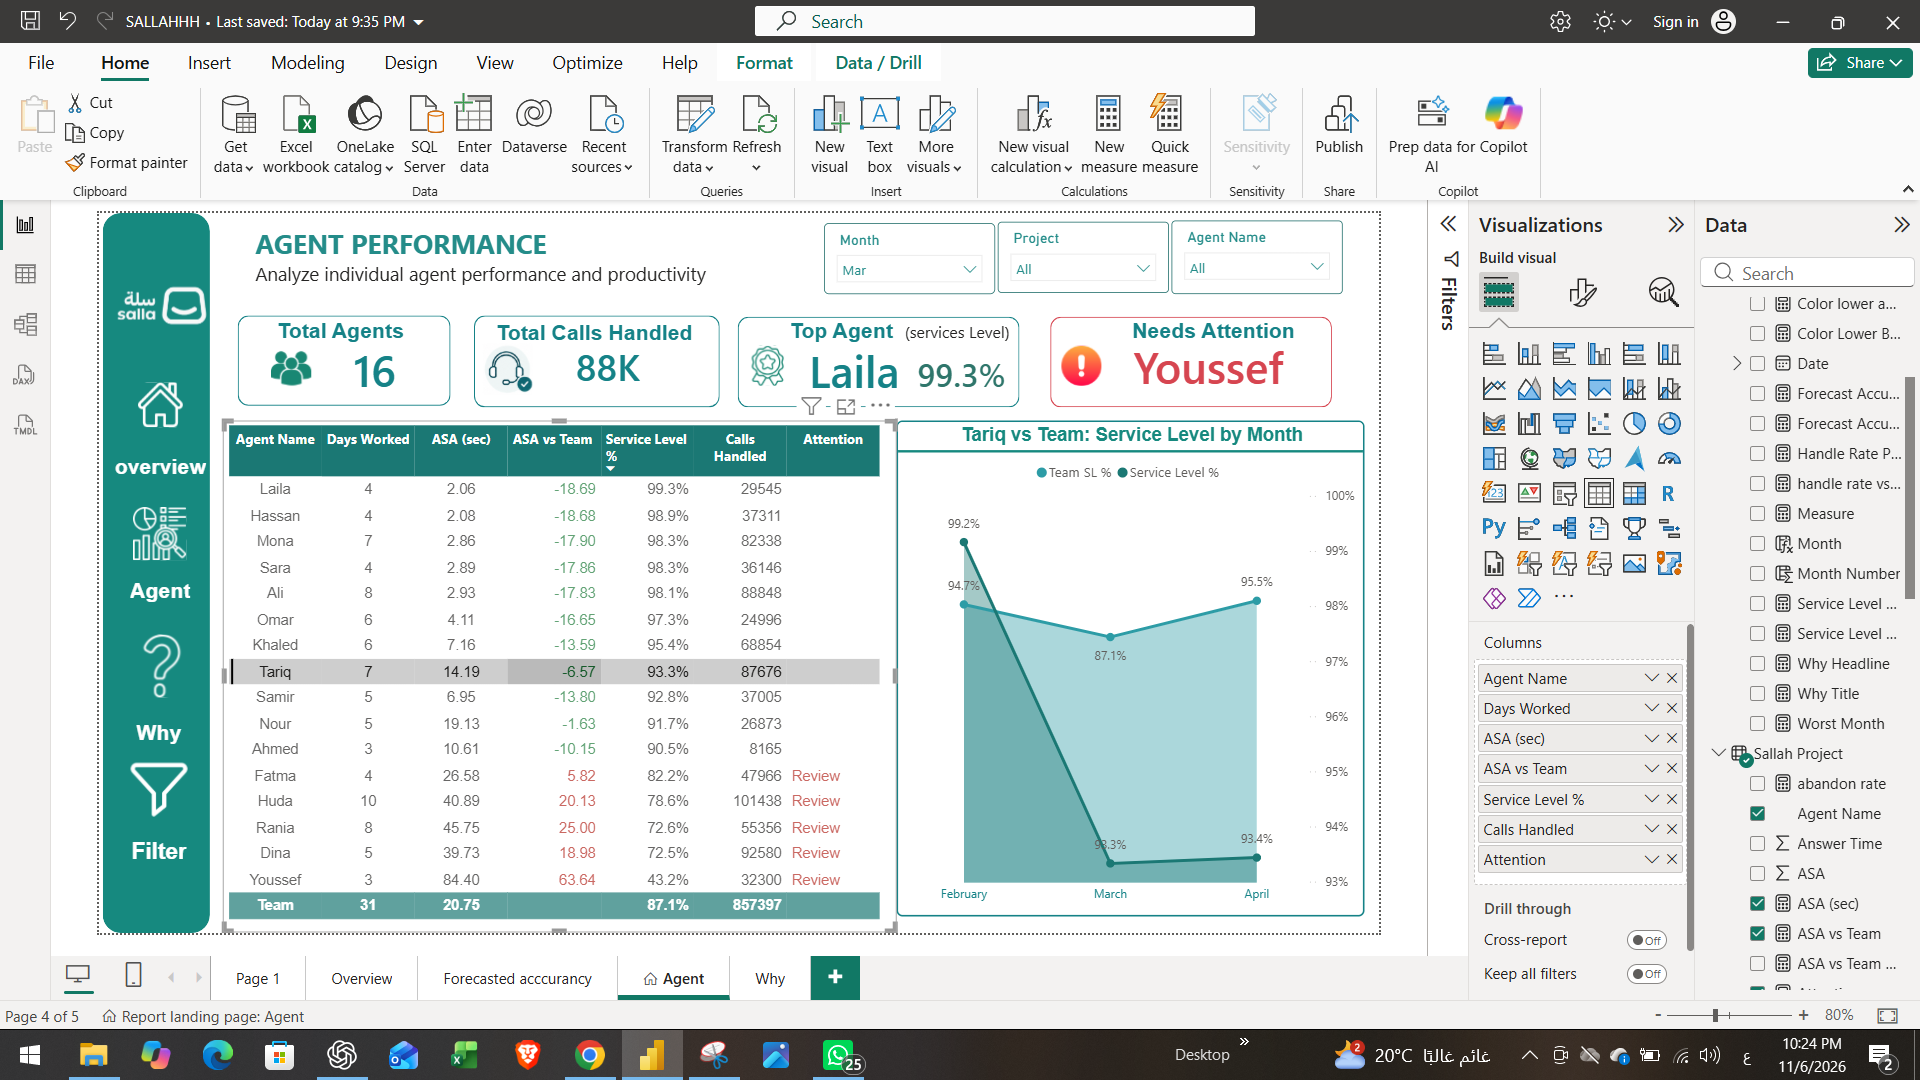

The page's visual inventory and layout, read from the dashboard file:
{"tool":"powerbi","page":{"name":"Agent","canvas":[1280,720],"ordinal":3},"visuals":[{"type":"textbox","box":[111,7.5,628.9,75.1],"z":0,"group":"g2"},{"type":"shape","box":[139.1,101.7,212.8,90.2],"z":0,"group":"g1"},{"type":"shape","box":[48.6,0,1231.4,77.1],"z":1000},{"type":"slicer","fields":{"Values":["Sallah Project.Month.Name"]},"box":[724.3,10,171.4,71.4],"z":1000,"group":"g2"},{"type":"shape","box":[374.7,101.7,245.8,91.9],"z":1000,"group":"g1"},{"type":"shape","box":[4.3,0,107.1,720],"z":2000},{"type":"slicer","fields":{"Values":["Sallah Project.Project"]},"box":[898.5,8.9,171.1,71],"z":2000,"group":"g2"},{"type":"actionButton","box":[140.8,130.6,105,48.3],"z":2000,"group":"g1"},{"type":"slicer","fields":{"Values":["Sallah Project.Agent Name"]},"box":[1072.4,7.1,171.1,73.7],"z":3000,"group":"g2"},{"type":"cardVisual","fields":{"Data":["Sum(Sallah Project.Calls Handled)"]},"box":[415.7,106.7,188.7,89.4],"z":3000,"group":"g1"},{"type":"group","id":"g1","title":"Group 1","box":[139.1,98.3,1127.6,105.9],"z":4000},{"type":"actionButton","box":[348.7,125.3,120.4,59.6],"z":4000,"group":"g1"},{"type":"textbox","box":[377.2,101.7,238.3,39.7],"z":5000,"group":"g1"},{"type":"textbox","box":[144.7,100.9,195.7,42.6],"z":6000,"group":"g1"},{"type":"shape","box":[639.2,103.4,281.8,90.6],"z":7000,"group":"g1"},{"type":"shape","box":[951.8,103.8,281.8,90.6],"z":8000},{"type":"textbox","box":[667.1,100.6,269,55.5],"z":9000,"group":"g1"},{"type":"group","id":"g2","title":"Group 2","box":[111,7.1,1132.5,75.6],"z":10000},{"type":"textbox","box":[979.7,101,269,55.5],"z":11000},{"type":"cardVisual","fields":{"Data":["Sallah Project.Top Agent"]},"box":[672,107.8,168.9,94.1],"z":11000,"group":"g1"},{"type":"actionButton","box":[0,0,139.1,66.8],"z":12000},{"type":"cardVisual","fields":{"Data":["Count(Sallah Project.Agent Name)"]},"box":[189.2,104.1,174.9,100.1],"z":12000,"group":"g1"},{"type":"cardVisual","fields":{"Data":["Sallah Project.Top Service Level"]},"box":[785.2,125.8,155.6,68.8],"z":13000,"group":"g1"},{"type":"actionButton","box":[34.8,146.1,52.9,91.8],"z":13000},{"type":"cardVisual","fields":{"Data":["Sallah Project.Needs Attention Agent"]},"box":[997.4,105.5,224.7,93.6],"z":14000},{"type":"actionButton","box":[627.1,128.1,85.1,48.2],"z":14000,"group":"g1"},{"type":"actionButton","box":[27.8,417.4,90.4,71],"z":15000},{"type":"actionButton","box":[22.3,537,96,75.1],"z":16000},{"type":"textbox","box":[947.8,100.3,132.7,44.6],"z":17000,"group":"g1"},{"type":"actionButton","box":[30.6,289.4,65.4,61.2],"z":18000},{"type":"actionButton","box":[939.6,128.5,85.1,48.2],"z":19000},{"type":"actionButton","box":[11.1,229.6,100.2,48.7],"z":20000},{"type":"actionButton","box":[11.1,353.4,100.2,48.7],"z":21000},{"type":"actionButton","box":[10,495.7,100,48.6],"z":22000},{"type":"actionButton","box":[0.3,22.3,132.7,92.9],"z":24000},{"type":"actionButton","box":[9.7,617.7,100.2,40.3],"z":25000},{"type":"tableEx","fields":{"Values":["Sallah Project.Agent Name","Sallah Project.Days Worked","Sallah Project.ASA (sec)","Sallah Project.ASA vs Team","Sallah Project.Service Level %","Sum(Sallah Project.Calls Handled)","Sallah Project.Attention"]},"box":[124.3,207.5,673.2,512.7],"z":26000},{"type":"areaChart","fields":{"Category":["Calendar.Date.Variation.Date Hierarchy.Month"],"Y":["Sallah Project.Team SL %"],"Y2":["Sallah Project.Service Level %"]},"box":[797.5,207.5,468.1,495.8],"z":27000}]}

Visuals, with their boxes on the page's 1280x720 design canvas (x1, y1, x2, y2). These are canvas units, not pixel positions in the 1920x1080 screenshot, which may show the page scaled, cropped or inside an application window:
textbox: [x1=111, y1=8, x2=740, y2=83]
shape: [x1=139, y1=102, x2=352, y2=192]
shape: [x1=49, y1=0, x2=1280, y2=77]
slicer - Sallah Project.Month.Name: [x1=724, y1=10, x2=896, y2=81]
shape: [x1=375, y1=102, x2=620, y2=194]
shape: [x1=4, y1=0, x2=111, y2=720]
slicer - Sallah Project.Project: [x1=898, y1=9, x2=1070, y2=80]
actionButton: [x1=141, y1=131, x2=246, y2=179]
slicer - Sallah Project.Agent Name: [x1=1072, y1=7, x2=1244, y2=81]
cardVisual - Sum(Sallah Project.Calls Handled): [x1=416, y1=107, x2=604, y2=196]
"Group 1" group: [x1=139, y1=98, x2=1267, y2=204]
actionButton: [x1=349, y1=125, x2=469, y2=185]
textbox: [x1=377, y1=102, x2=616, y2=141]
textbox: [x1=145, y1=101, x2=340, y2=144]
shape: [x1=639, y1=103, x2=921, y2=194]
shape: [x1=952, y1=104, x2=1234, y2=194]
textbox: [x1=667, y1=101, x2=936, y2=156]
"Group 2" group: [x1=111, y1=7, x2=1244, y2=83]
textbox: [x1=980, y1=101, x2=1249, y2=156]
cardVisual - Sallah Project.Top Agent: [x1=672, y1=108, x2=841, y2=202]
actionButton: [x1=0, y1=0, x2=139, y2=67]
cardVisual - Count(Sallah Project.Agent Name): [x1=189, y1=104, x2=364, y2=204]
cardVisual - Sallah Project.Top Service Level: [x1=785, y1=126, x2=941, y2=195]
actionButton: [x1=35, y1=146, x2=88, y2=238]
cardVisual - Sallah Project.Needs Attention Agent: [x1=997, y1=106, x2=1222, y2=199]
actionButton: [x1=627, y1=128, x2=712, y2=176]
actionButton: [x1=28, y1=417, x2=118, y2=488]
actionButton: [x1=22, y1=537, x2=118, y2=612]
textbox: [x1=948, y1=100, x2=1080, y2=145]
actionButton: [x1=31, y1=289, x2=96, y2=351]
actionButton: [x1=940, y1=128, x2=1025, y2=177]
actionButton: [x1=11, y1=230, x2=111, y2=278]
actionButton: [x1=11, y1=353, x2=111, y2=402]
actionButton: [x1=10, y1=496, x2=110, y2=544]
actionButton: [x1=0, y1=22, x2=133, y2=115]
actionButton: [x1=10, y1=618, x2=110, y2=658]
tableEx - Sallah Project.Agent Name x Sallah Project.Days Worked: [x1=124, y1=208, x2=798, y2=720]
areaChart - Calendar.Date.Variation.Date Hierarchy.Month x Sallah Project.Team SL %: [x1=798, y1=208, x2=1266, y2=703]
